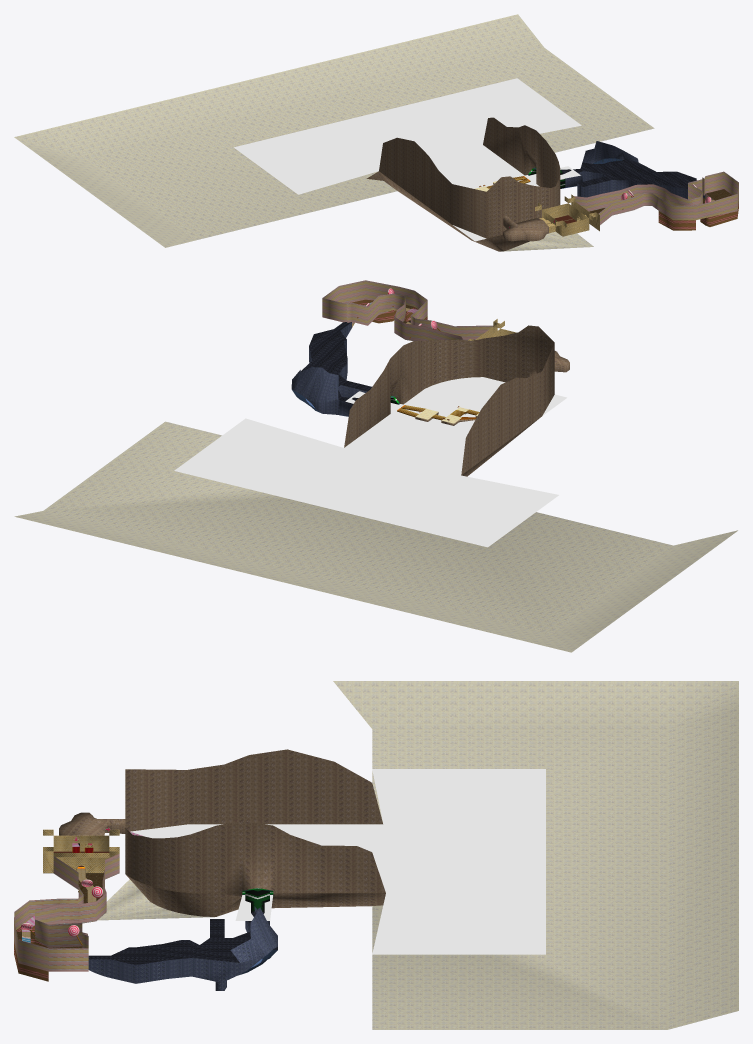
3 renders of one model, top to bottom at view 1: azimuth 30°, elevation 25°; view 2: azimuth 150°, elevation 25°; view 3: azimuth 270°, elevation 25°, orthographic. The views are drawn at different scales.
Parts seen in each view (by area): view 1: course_SKP__Rock4Mesh, course_SKP__CloudMesh, course_SKP__Rock3Mesh, course_SKP__CakewallMesh, course_SKP__Material9Mesh, course_SKP__Material8Mesh, course_SKP__cookie_stoneMesh, course_SKP__Cakewall1Mesh; view 2: course_SKP__Rock4Mesh, course_SKP__CloudMesh, course_SKP__Rock3Mesh, course_SKP__CakewallMesh, course_SKP__Material8Mesh, course_SKP__Material9Mesh; view 3: course_SKP__Rock4Mesh, course_SKP__Rock3Mesh, course_SKP__CloudMesh, course_SKP__CakewallMesh, course_SKP__Material8Mesh, course_SKP__Material9Mesh, course_SKP__cookie_stoneMesh.
Boxes of the visible parts, <box> form: course_SKP__Rock4Mesh: <box>14,14,654,251</box>; course_SKP__CloudMesh: <box>234,78,581,241</box>; course_SKP__Rock3Mesh: <box>366,117,560,251</box>; course_SKP__CakewallMesh: <box>574,171,738,224</box>; course_SKP__Material9Mesh: <box>561,159,696,188</box>; course_SKP__Material8Mesh: <box>565,141,705,199</box>; course_SKP__cookie_stoneMesh: <box>535,194,599,236</box>; course_SKP__Cakewall1Mesh: <box>658,201,738,230</box>; course_SKP__Rock4Mesh: <box>14,421,737,652</box>; course_SKP__CloudMesh: <box>174,377,566,547</box>; course_SKP__Rock3Mesh: <box>344,325,569,476</box>; course_SKP__CakewallMesh: <box>322,280,493,340</box>; course_SKP__Material8Mesh: <box>291,322,366,416</box>; course_SKP__Material9Mesh: <box>300,322,371,404</box>; course_SKP__Rock4Mesh: <box>98,681,738,1029</box>; course_SKP__Rock3Mesh: <box>59,749,385,916</box>; course_SKP__CloudMesh: <box>130,769,545,954</box>; course_SKP__CakewallMesh: <box>14,853,119,971</box>; course_SKP__Material8Mesh: <box>88,906,277,990</box>; course_SKP__Material9Mesh: <box>88,911,264,964</box>; course_SKP__cookie_stoneMesh: <box>43,829,119,873</box>.
Bounding box in the file's own units: 312815 × 48270 × 290602.
33 materials, 32 textured.
